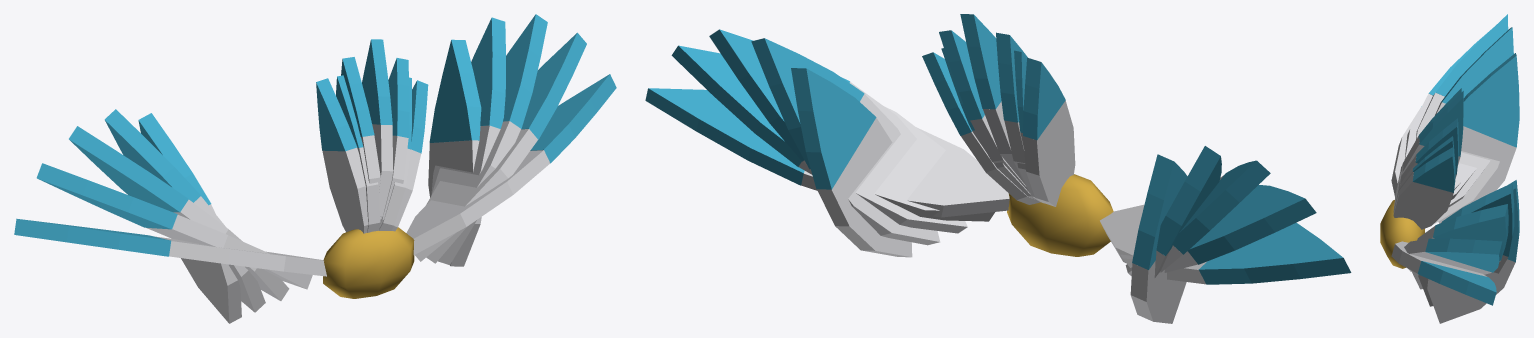
Rendered from aoi_p1.glb.
3 views of the same model, side by side, from view 1: azimuth 30°, elevation 25°; view 2: azimuth 150°, elevation 25°; view 3: azimuth 270°, elevation 25° (orthographic). The views are drawn at different scales.
Parts seen in each view (by area): view 1: p1_wings_body, p1_feathersWide_body, p1_feathers_body; view 2: p1_wings_body, p1_feathersWide_body, p1_feathers_body; view 3: p1_wings_body, p1_feathersWide_body, p1_feathers_body.
Part boxes in pixels (x1=…): p1_wings_body: x1=14, y1=14, x2=616, y2=323; p1_feathersWide_body: x1=316, y1=57, x2=428, y2=233; p1_feathers_body: x1=336, y1=39, x2=411, y2=232; p1_wings_body: x1=645, y1=29, x2=1351, y2=323; p1_feathersWide_body: x1=922, y1=30, x2=1075, y2=206; p1_feathers_body: x1=941, y1=14, x2=1040, y2=201; p1_wings_body: x1=1380, y1=14, x2=1519, y2=323; p1_feathersWide_body: x1=1393, y1=88, x2=1461, y2=229; p1_feathers_body: x1=1393, y1=91, x2=1463, y2=212.
Bounding box in the file's own units: 0.6258 × 0.2347 × 0.1479.
